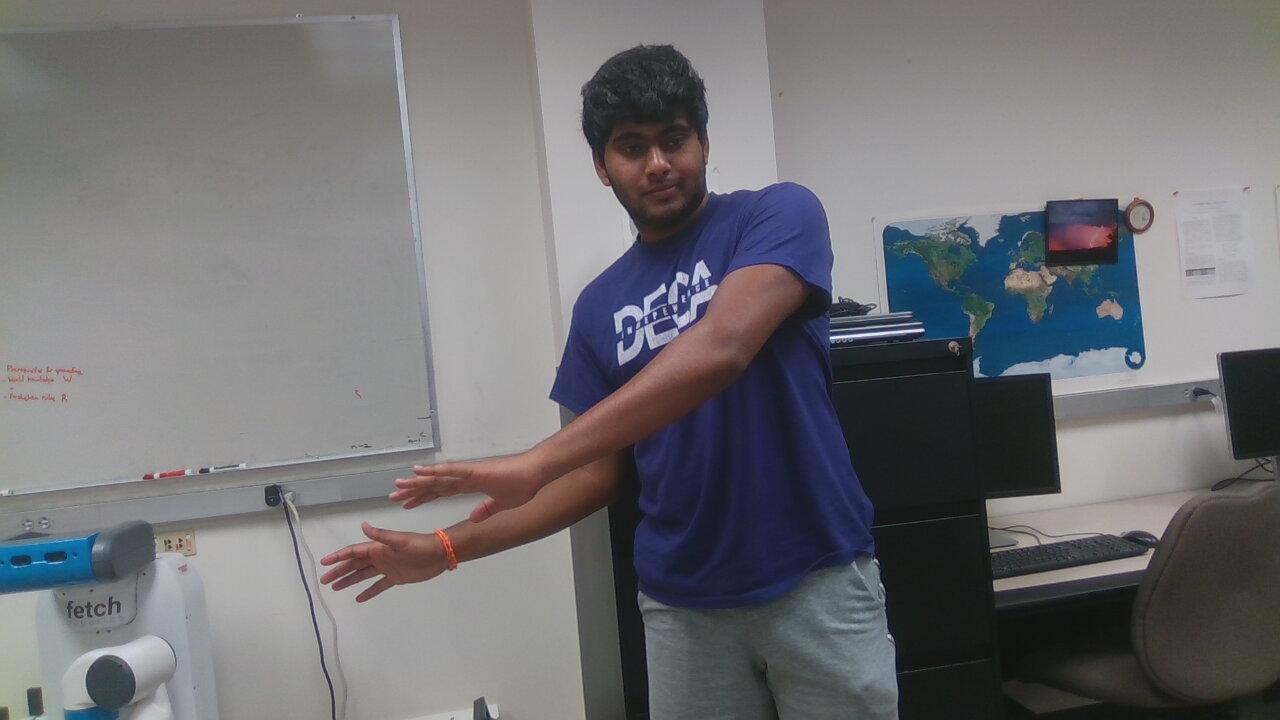hands: (379, 443, 537, 525), (320, 515, 449, 605)
